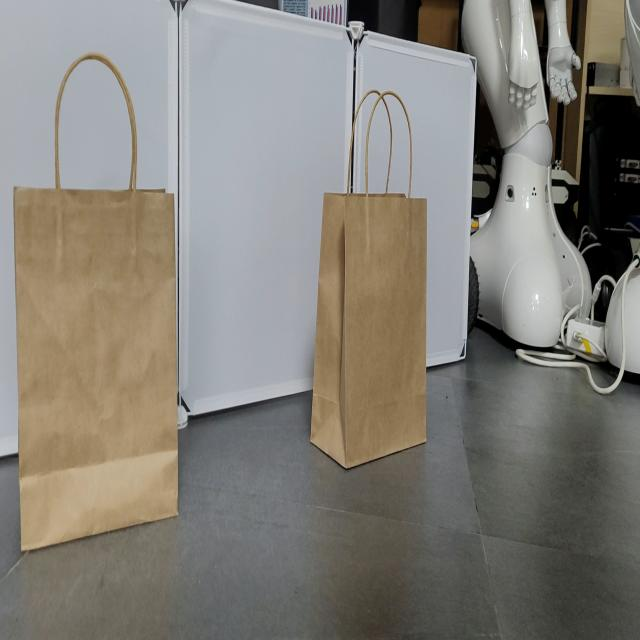paper bag: (14, 52, 183, 553), (312, 90, 428, 468)
